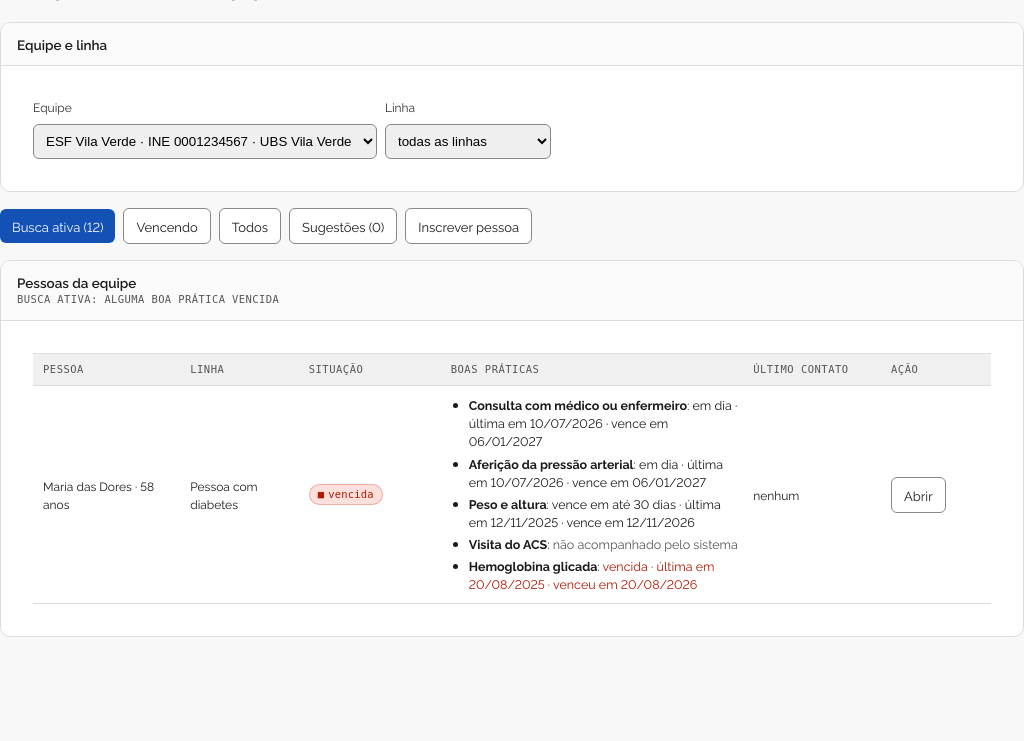
Test: EnrollmentDetail › registra contato: nota vazia não vai; relê o detalhe e a lista
The image size is (1024, 741).
Click the button with aria-label "Abrir Maria das Dores": click(918, 495) [891,477,946,513]
(page scrolled)
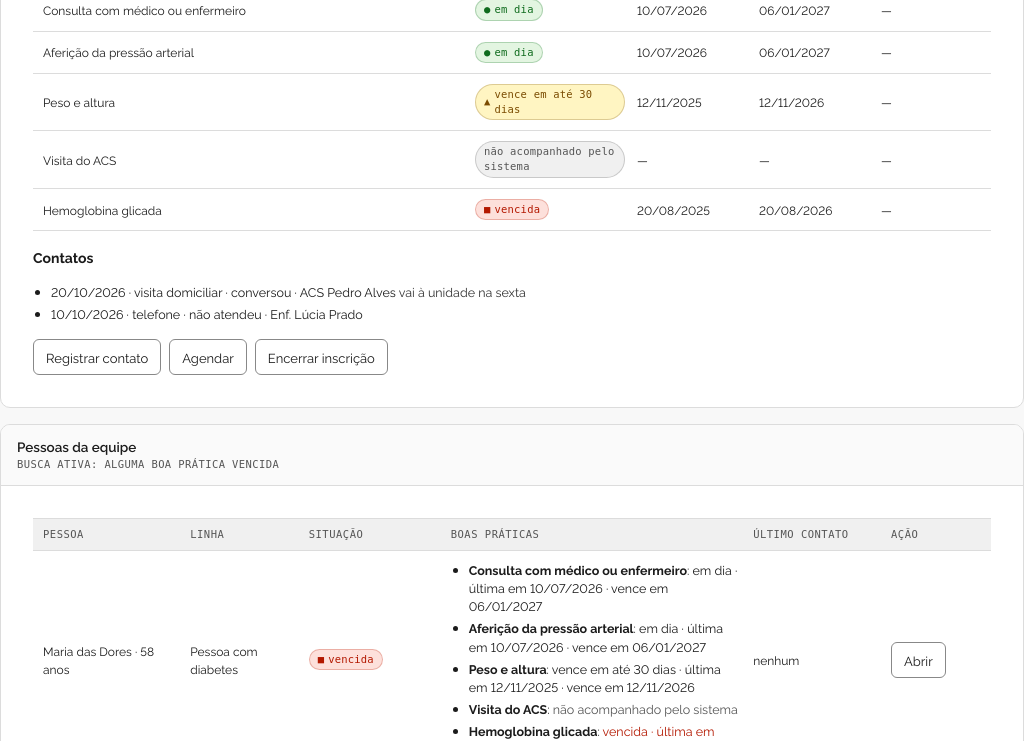
Click the button "Registrar contato": click(97, 357) [33,339,161,375]
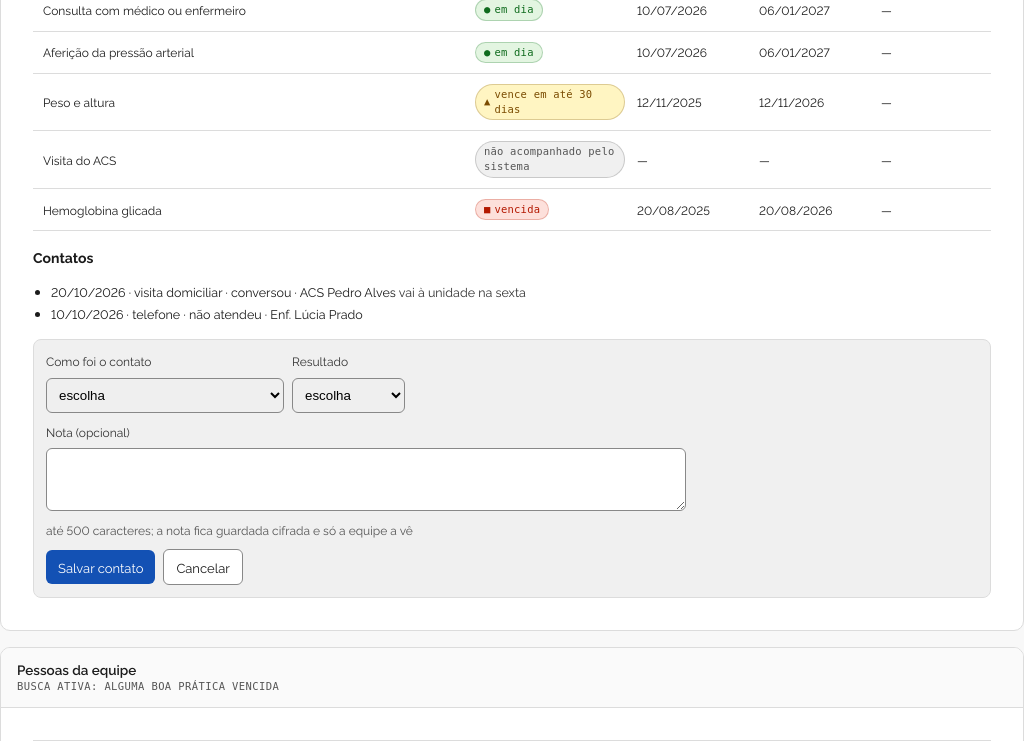
Select "telefone" in the dropdown labelled "Como foi o contato": (165, 395) [46,378,284,413]
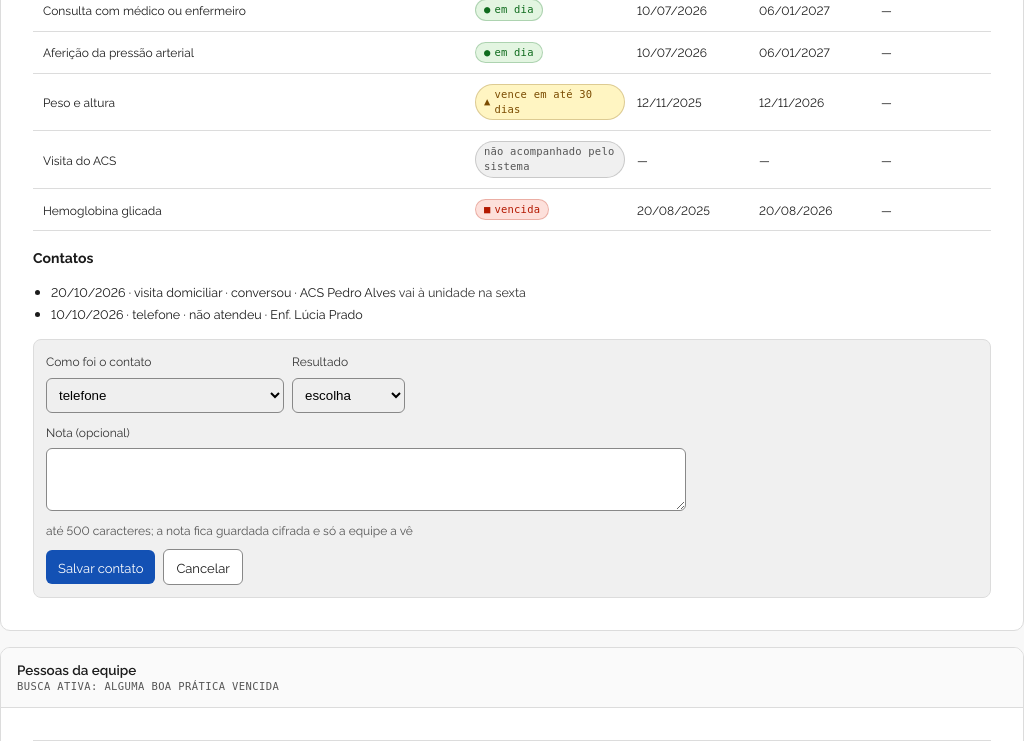
Select "não atendeu" in the dropdown labelled "Resultado": (348, 395) [292,378,405,413]
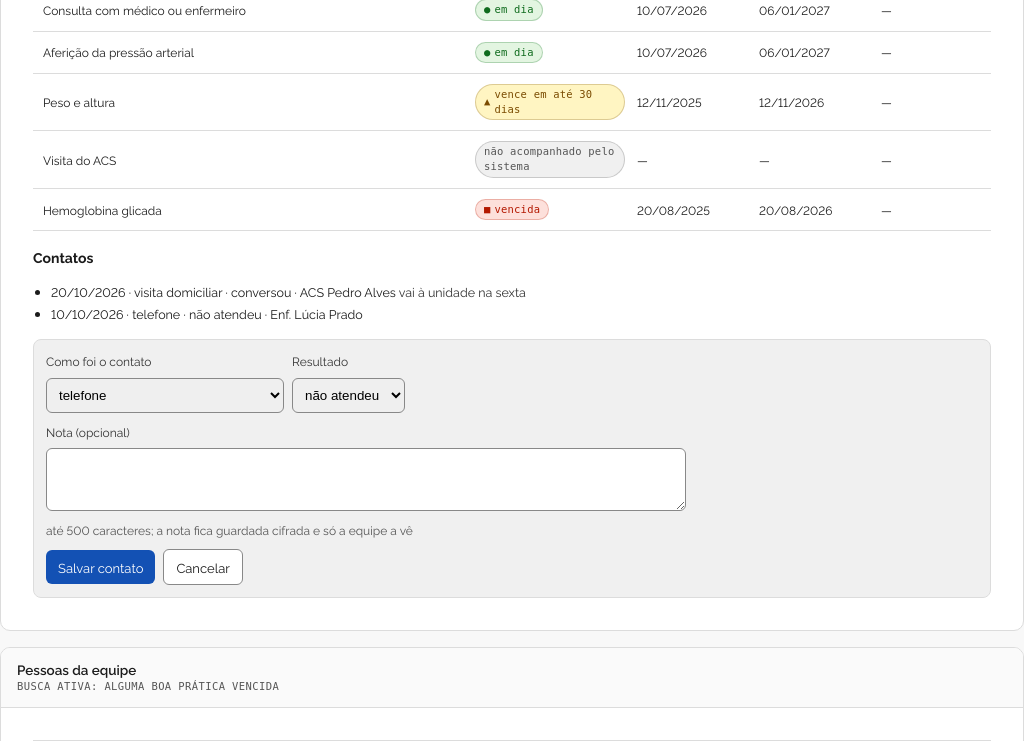
Click the button "Salvar contato": click(101, 567) [46,550,155,584]
(page scrolled)
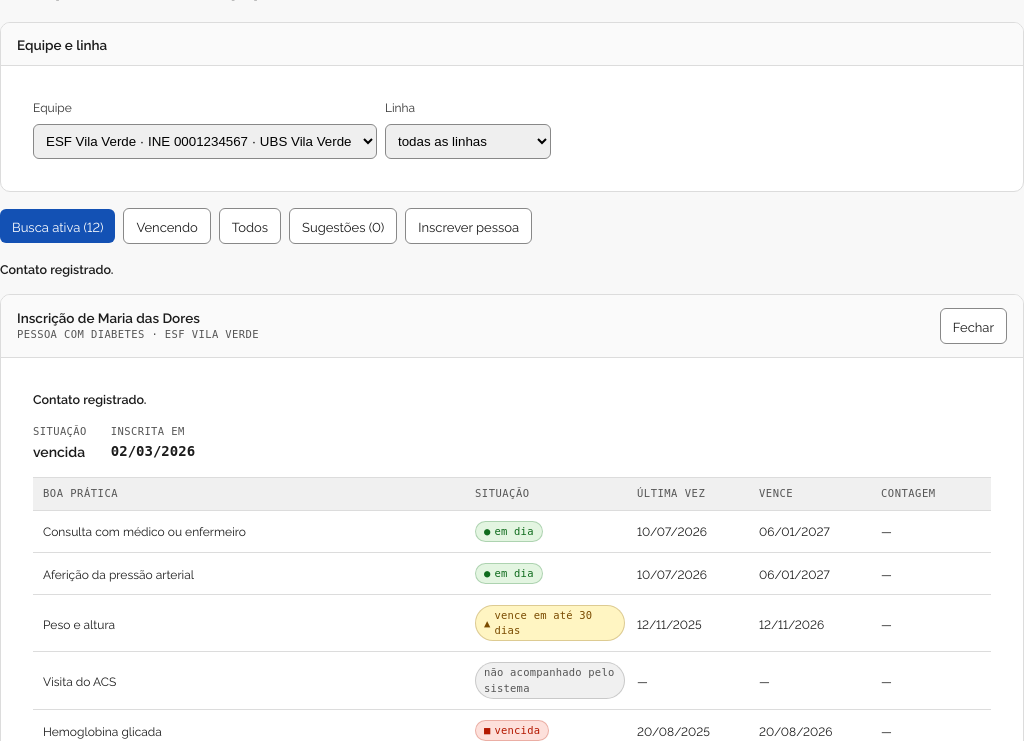
Check: the element "Registrar contato" is not shown
Check: the 1st message "Contato registrado." is shown, box [0,260,113,277]
